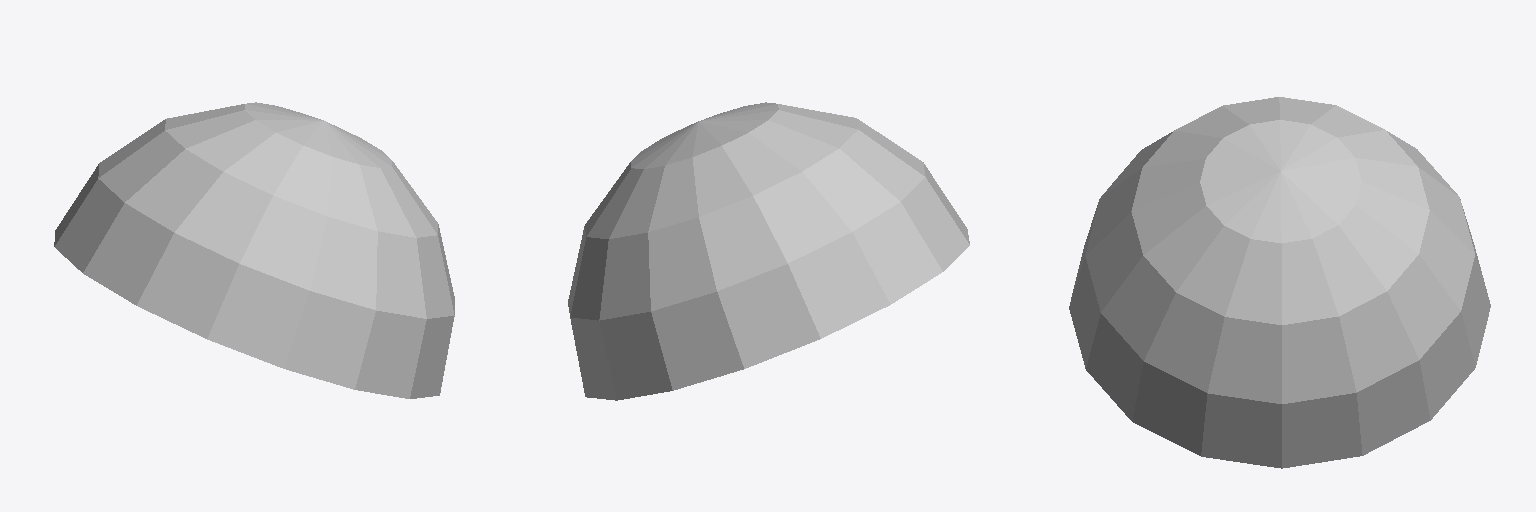
The model's file is RelojCampDer_CatDog.obj.
3 views of the same model, side by side, from view 1: azimuth 30°, elevation 25°; view 2: azimuth 150°, elevation 25°; view 3: azimuth 270°, elevation 25° (orthographic).
Visible parts, largest first — view 1: polySurface1317 polySurface1313; view 2: polySurface1317 polySurface1313; view 3: polySurface1317 polySurface1313.
Part boxes in pixels (bbox=[...]): polySurface1317 polySurface1313: bbox=[54, 102, 454, 398]; polySurface1317 polySurface1313: bbox=[568, 102, 969, 400]; polySurface1317 polySurface1313: bbox=[1069, 97, 1490, 468].
Bounding box in the file's own units: 0.2466 × 0.184 × 0.2588.